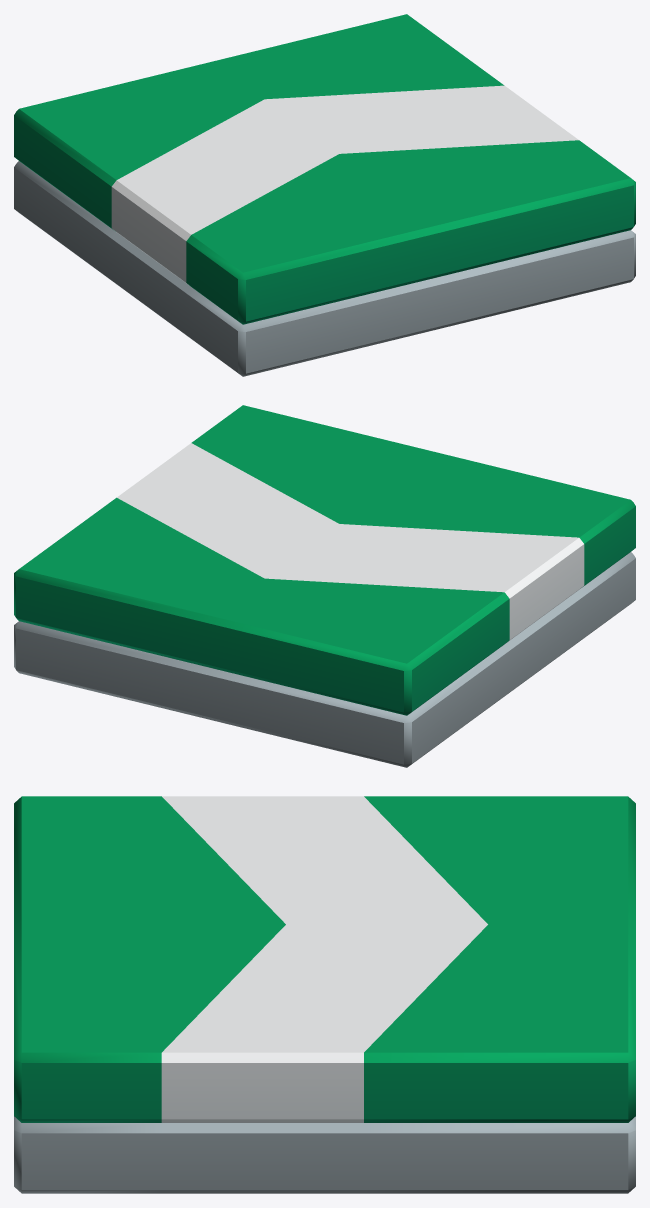
File: kaykit_platform_arrow_4x4x1_green.glb
The picture shows the model from 3 angles, top to bottom: view 1: azimuth 30°, elevation 25°; view 2: azimuth 150°, elevation 25°; view 3: azimuth 270°, elevation 25°; orthographic projection. The views are drawn at different scales.
Visible parts, largest first — view 1: platform_arrow_4x4x1_green_visual; view 2: platform_arrow_4x4x1_green_visual; view 3: platform_arrow_4x4x1_green_visual.
Part boxes in pixels (bbox=[...]): platform_arrow_4x4x1_green_visual: bbox=[14, 14, 635, 376]; platform_arrow_4x4x1_green_visual: bbox=[14, 405, 635, 767]; platform_arrow_4x4x1_green_visual: bbox=[14, 796, 635, 1193].
Size of what is drawn, in the model's own units: 4 by 1 by 4.
1 material, 1 textured.
